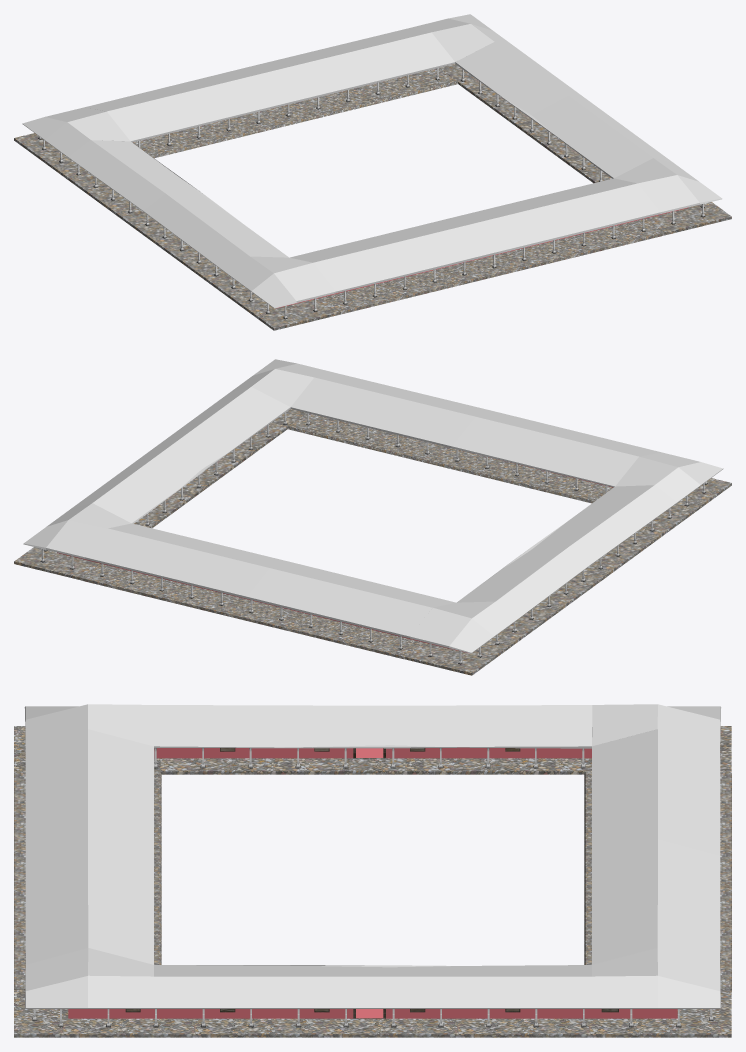
The model's file is Cotiguacu.fbx.
3 views of the same model, one above another, from view 1: azimuth 30°, elevation 25°; view 2: azimuth 150°, elevation 25°; view 3: azimuth 270°, elevation 25° (orthographic). The views are drawn at different scales.
Parts seen in each view (by area): view 1: Cube.012, Cube.003, Chao.004, Cube.037, Chao.003, Cube; view 2: Cube.012, Cube.003, Chao.004, Cube.037, Chao.003, Cube, Cube.001; view 3: Cube.012, Cube.003, Chao.003, Cube.037, Cube.004, Chao.004, Cube.010, Cube.001, Cube.002.
Part boxes in pixels (box(x1,y1,x2,y2)): Cube.012: box(85, 28, 660, 293); Cube.003: box(68, 42, 674, 273); Chao.004: box(133, 68, 664, 314); Cube.037: box(22, 14, 722, 308); Chao.003: box(14, 64, 731, 330); Cube: box(38, 136, 705, 318); Cube.012: box(85, 373, 660, 638); Cube.003: box(70, 387, 676, 619); Chao.004: box(81, 413, 612, 659); Cube.037: box(23, 359, 723, 653); Chao.003: box(14, 409, 731, 675); Cube: box(40, 481, 707, 664); Cube.001: box(57, 454, 613, 653); Cube.012: box(25, 729, 720, 964); Cube.003: box(153, 705, 592, 1008); Chao.003: box(14, 726, 731, 1037); Cube.037: box(24, 704, 721, 1008); Cube.004: box(109, 747, 636, 1018); Chao.004: box(14, 771, 731, 991); Cube.010: box(58, 1009, 681, 1027); Cube.001: box(68, 1009, 677, 1018); Cube.002: box(154, 748, 585, 768).
Size of the model in its own units: 4550 by 307 by 4477.
